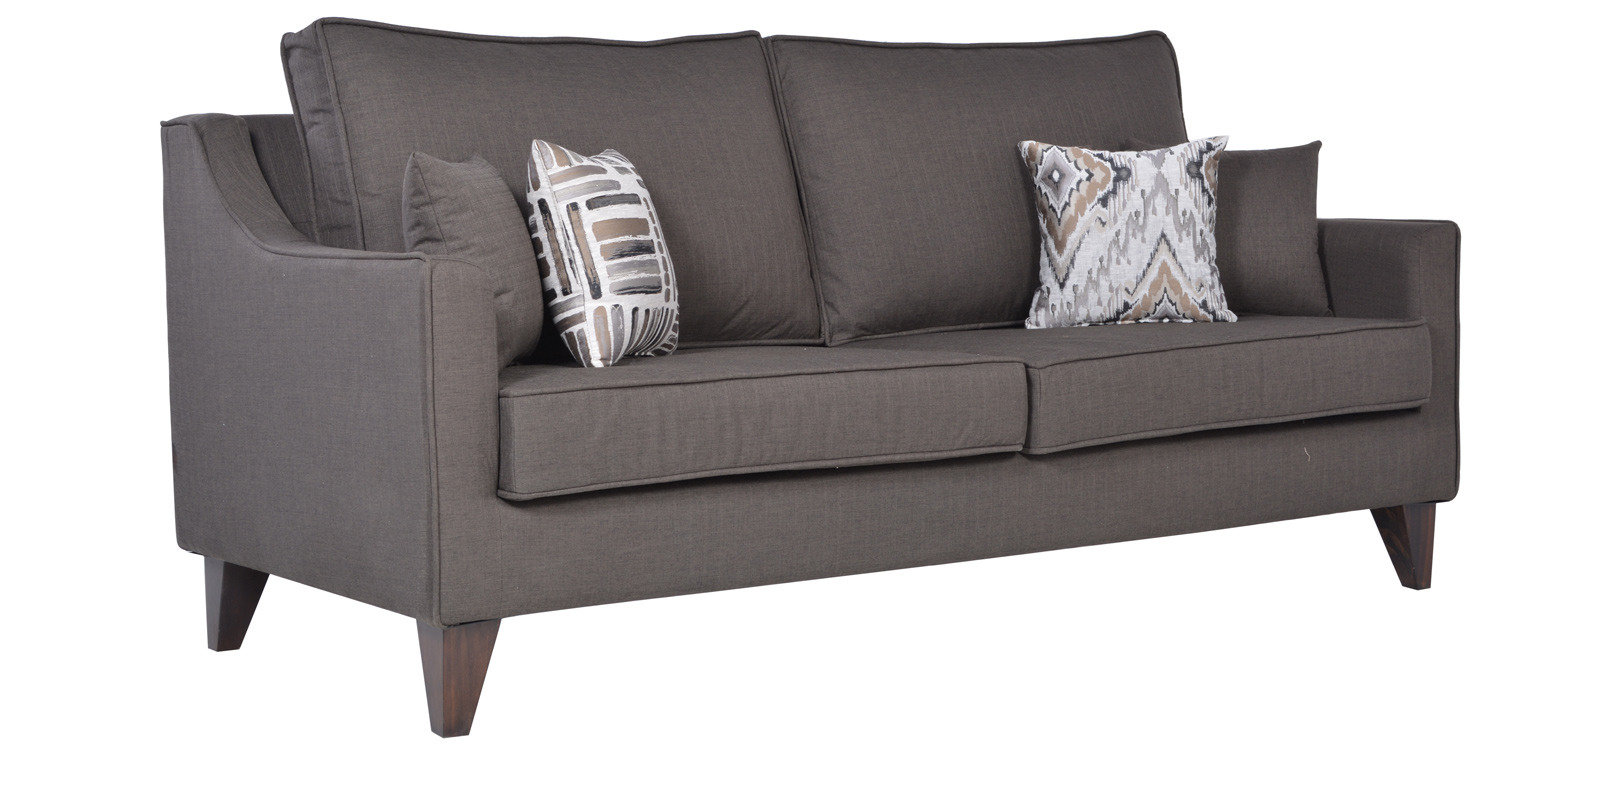Ithaca Impulse Three Seater Sofa with Throw Cushions in Charcoal Grey Colour by: (153, 6, 1498, 745)
